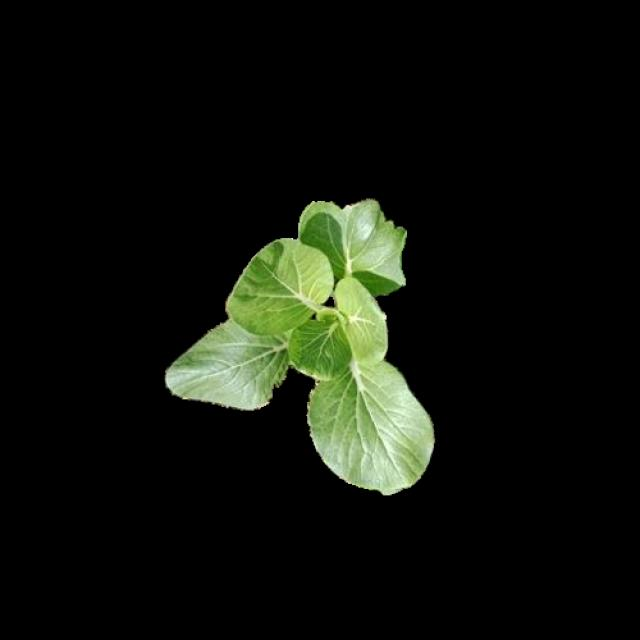not-mature: (164, 198, 436, 494)
unhealthy: (301, 199, 412, 293)
